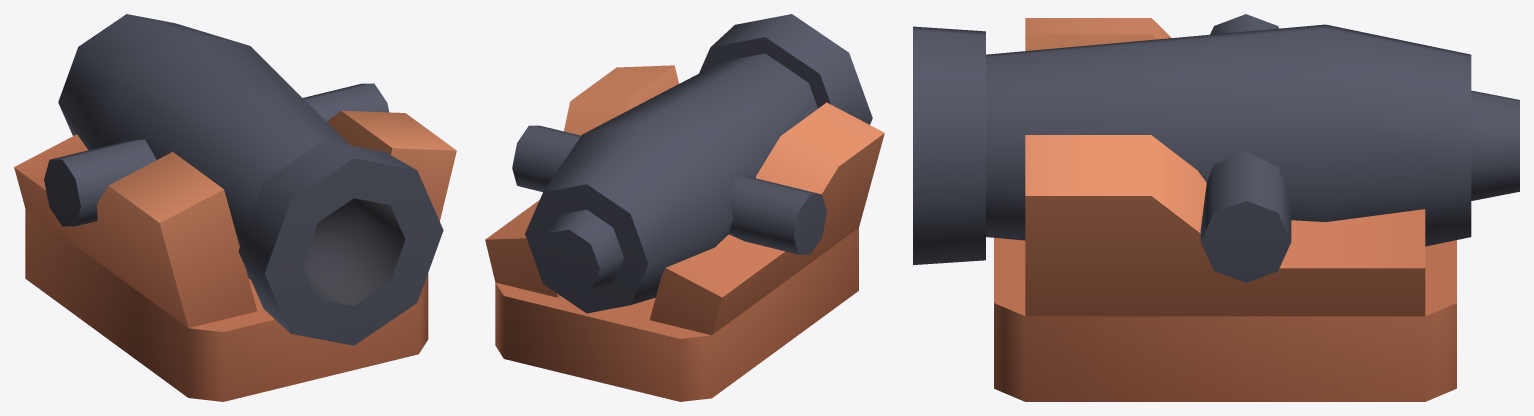
File: prop_cannon.glb
3 renders of one model, left to right at view 1: azimuth 30°, elevation 25°; view 2: azimuth 150°, elevation 25°; view 3: azimuth 270°, elevation 25°, orthographic. The views are drawn at different scales.
Visible parts, largest first — view 1: cannon; view 2: cannon; view 3: cannon.
Part boxes in pixels (box(x1,y1,x2,y2)): cannon: box(14, 14, 456, 401); cannon: box(485, 14, 884, 401); cannon: box(913, 14, 1519, 401).
Size of the model in its own units: 1.4 by 1.05 by 1.92.
1 material, 1 textured.
